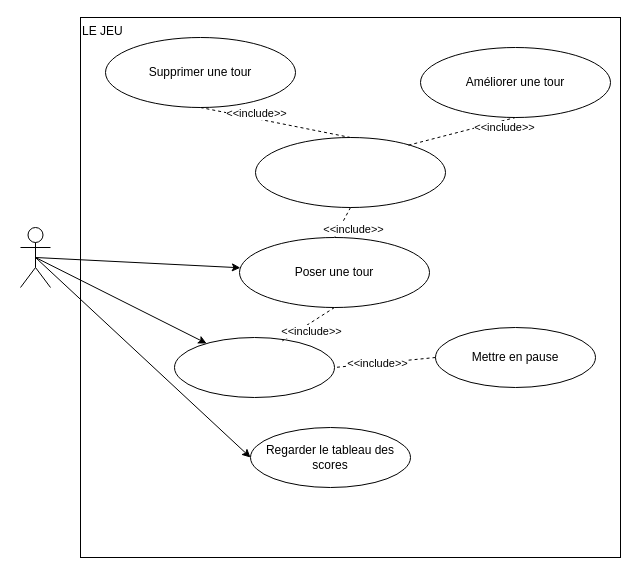
This 638x575 diagram has some shape labels left out. Each missing label, with the centre of its shape:
"Joueur" belongs at [35,257].
"Lancer une partie" belongs at [254,367].
"Selectionner la tour" belongs at [350,172].
